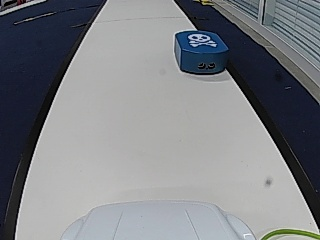danger: (188, 32, 216, 47)
